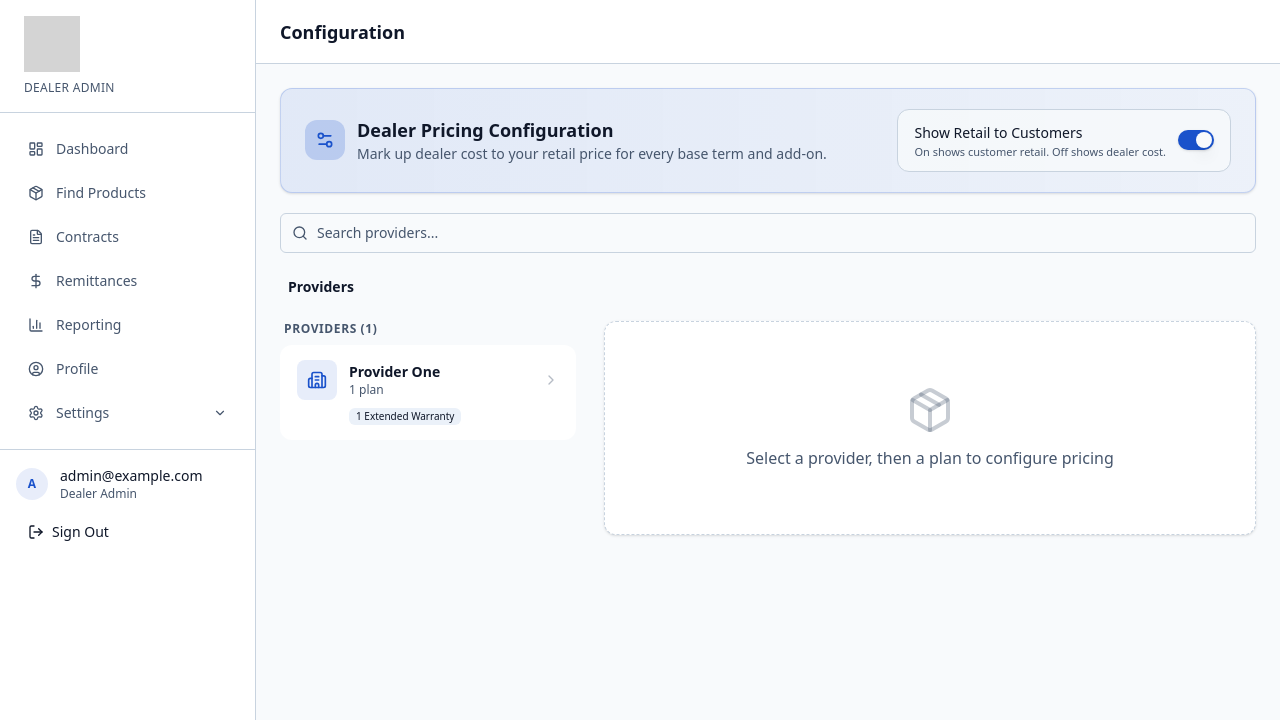
Test: dealer pricing recommendation display › shows generated standard retail when provider suggested retail only repeats cost
This screenshot has width=1280, height=720.
Step 1. Click the button "Provider One 1 plan 1 Extended Warranty" → click(317, 380), box x1=280 y1=344 x2=576 y2=440
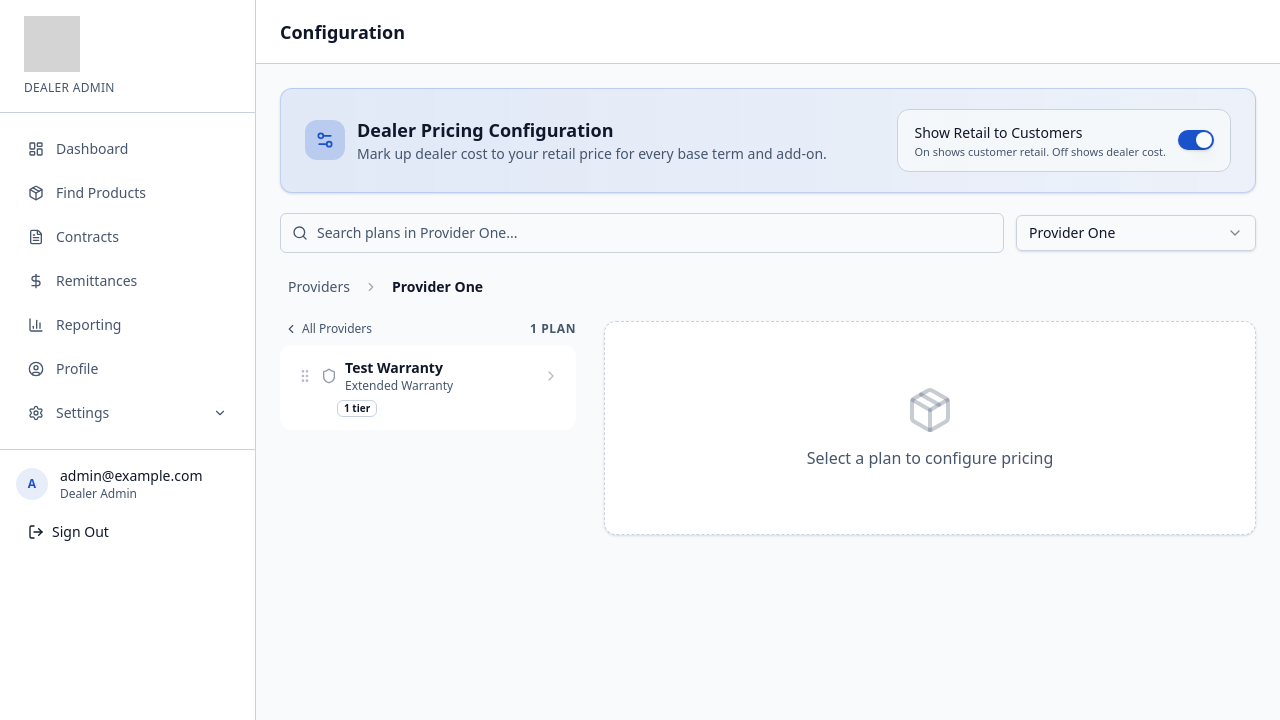
Step 2. Click the button "Test Warranty Extended Warranty 1 tier" → click(428, 387), box x1=280 y1=344 x2=576 y2=430
(page scrolled)
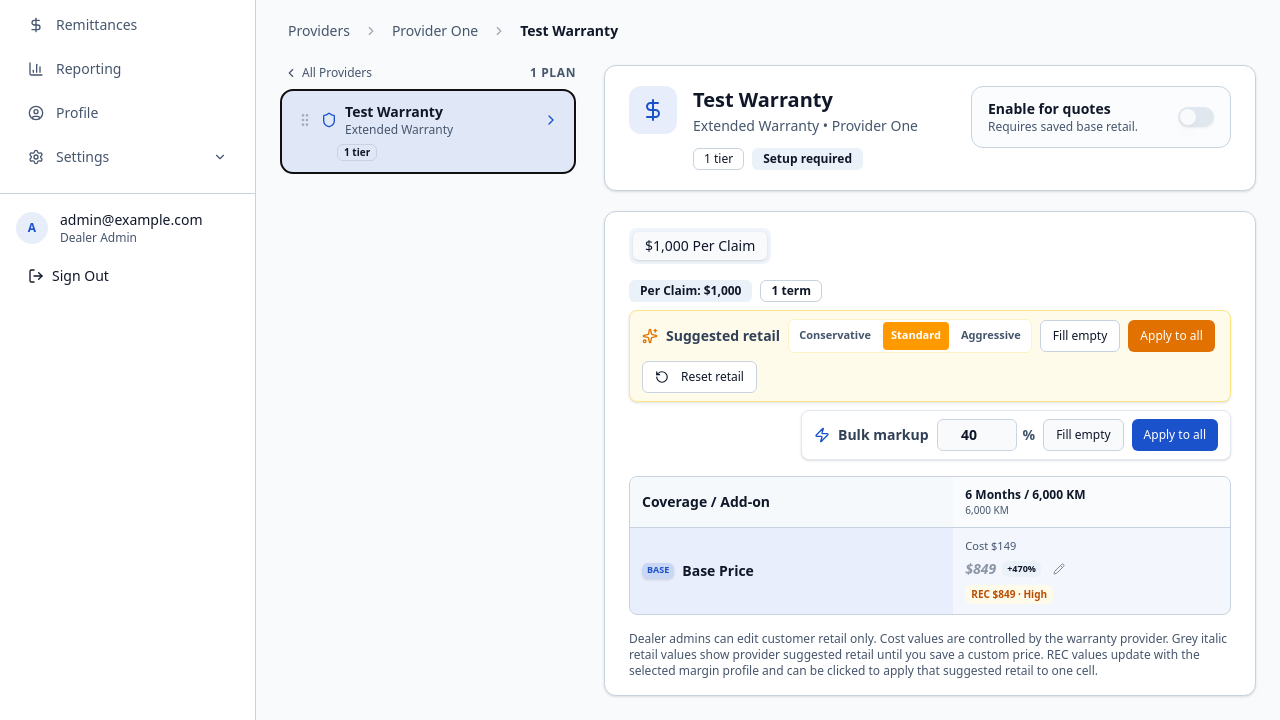
Expected: the text "$849" is shown, x1=965 y1=560 x2=996 y2=580
